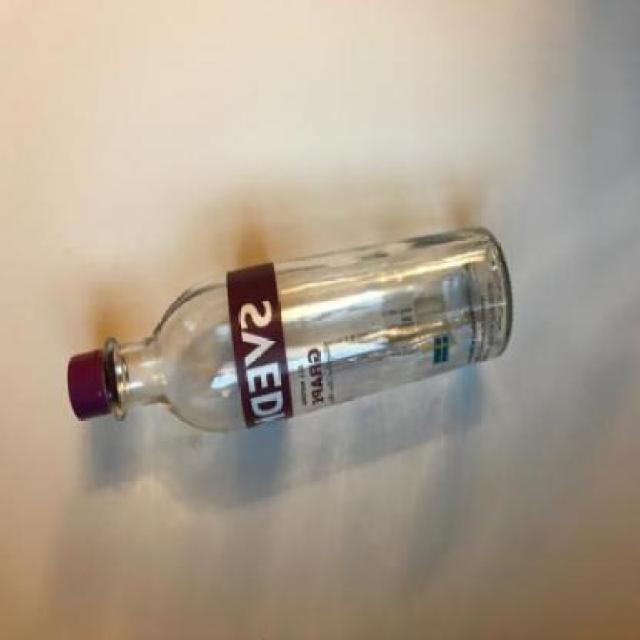glass: (101, 228, 514, 434)
plastic: (66, 354, 112, 421)
